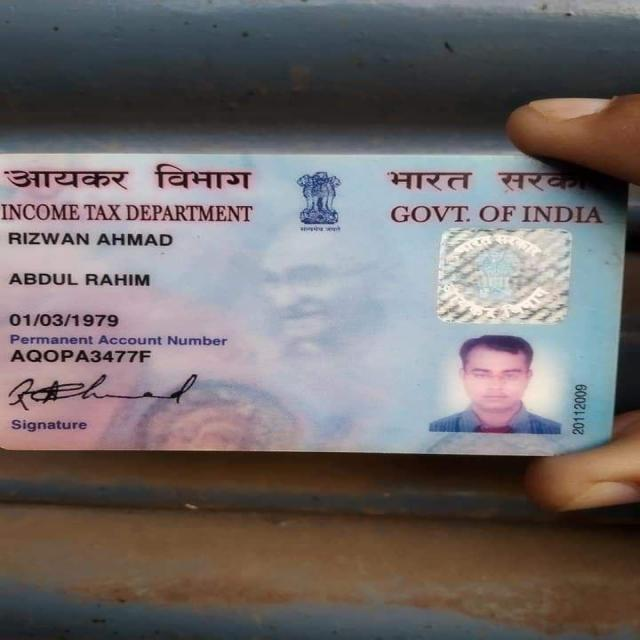pan_card: (0, 152, 625, 454)
